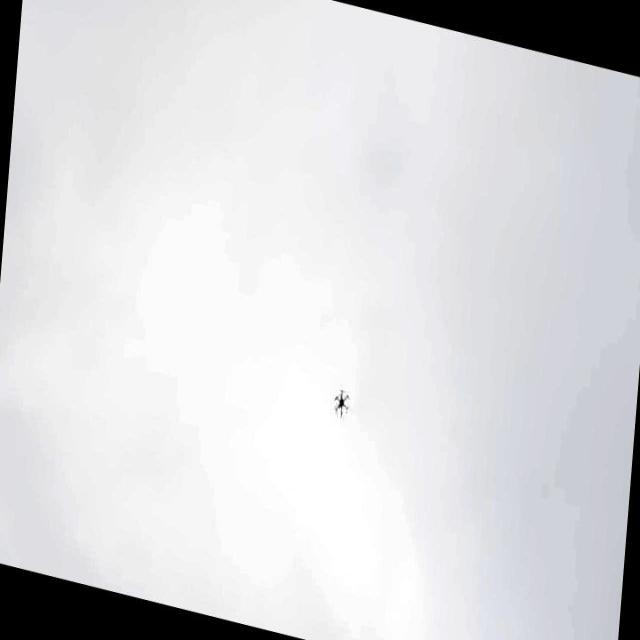drone: (328, 381, 354, 423)
